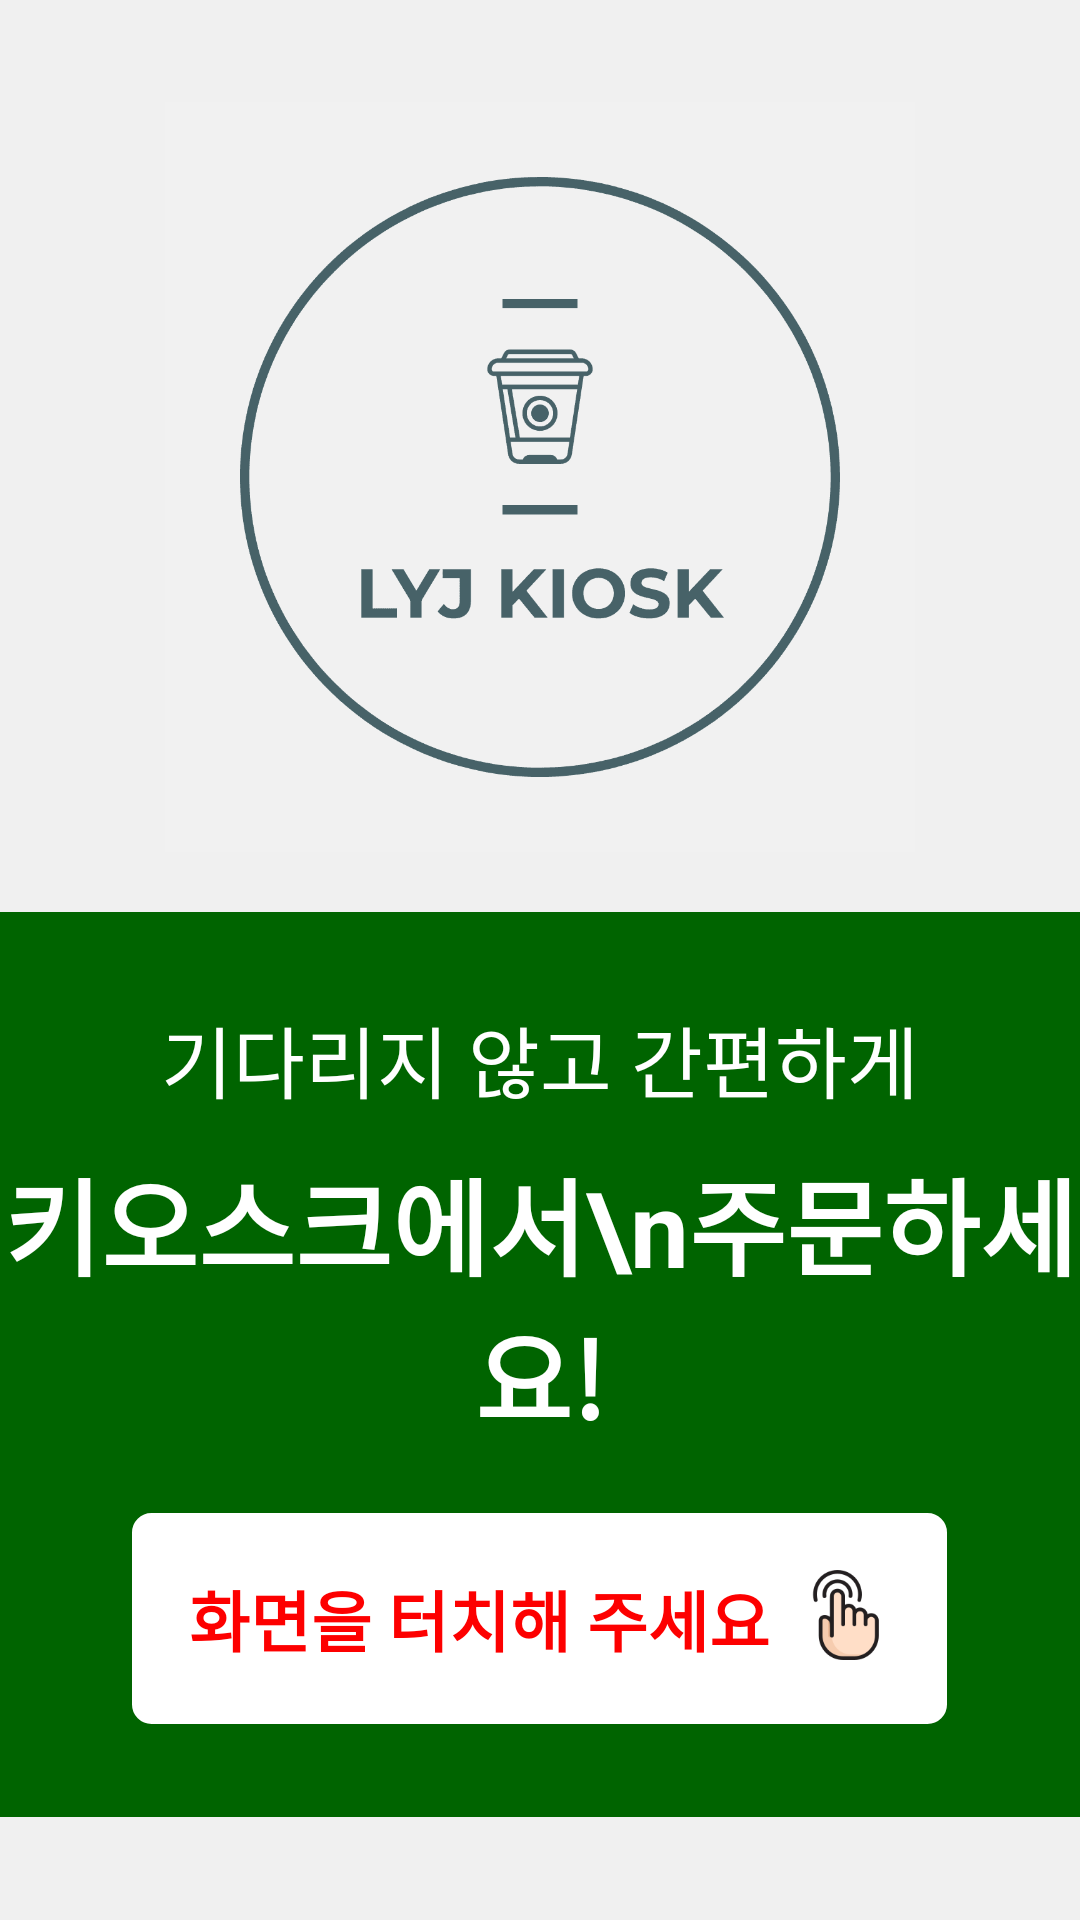

Icons on this 1080px x 1920px Android screen, each with the point to tap as point (x, y):
touch: point (846, 1615)
